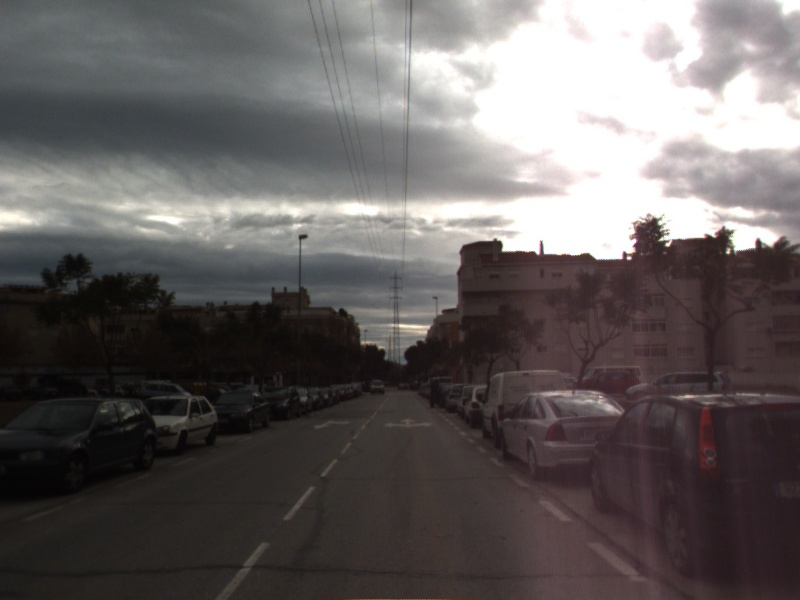STRAIGHT_LEFT_RIGHT: (382, 416, 435, 430)
